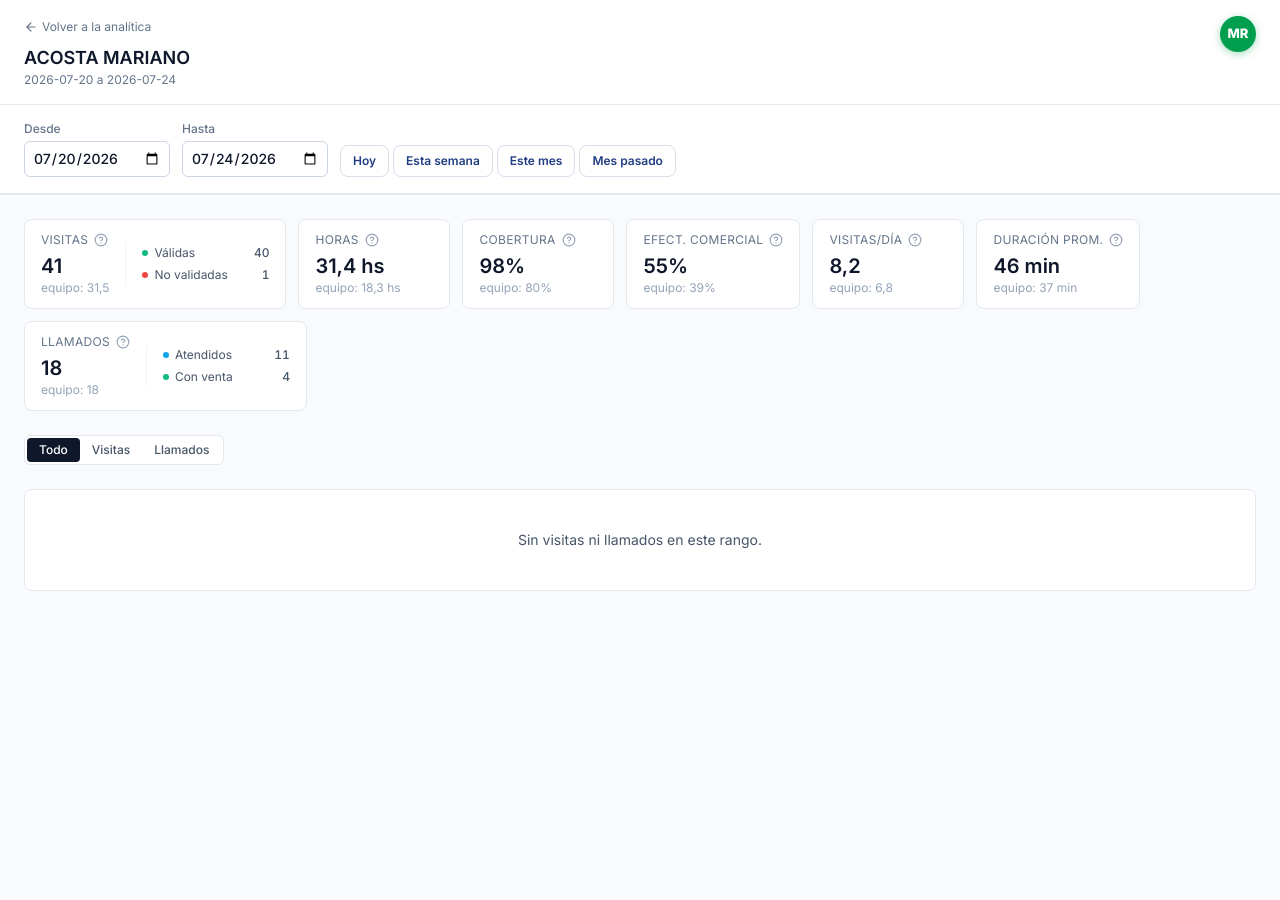
Test: cada tarjeta explica qué mide al pasar el mouse por el "?"
The width and height of the screenshot is (1280, 900).
Hover over the button named "Qué significa Horas".
mouse_move(372, 240)  # box [365, 233, 379, 247]
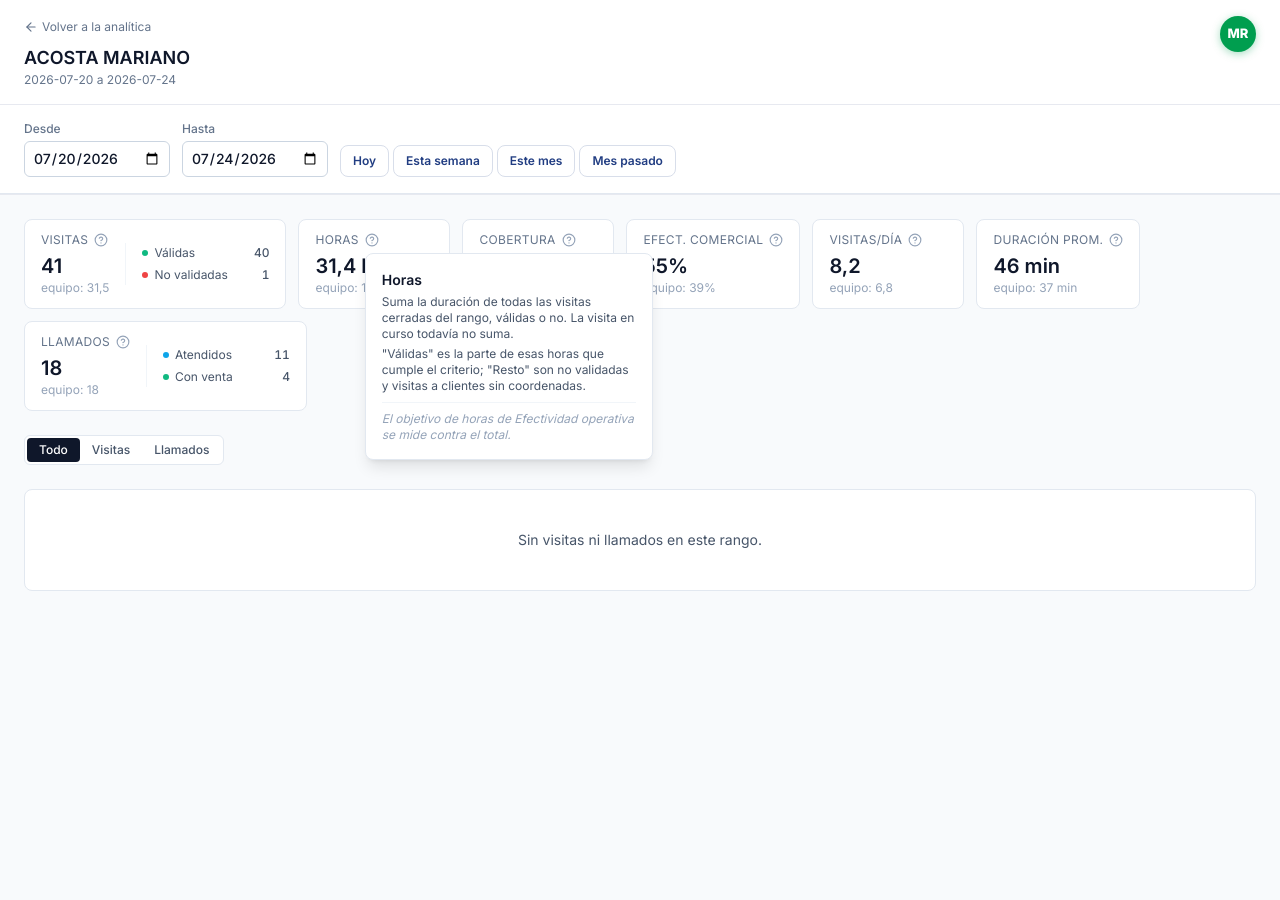
Now the dialog shows "todas las visitas cerradas del rango", box [382, 294, 634, 341]
